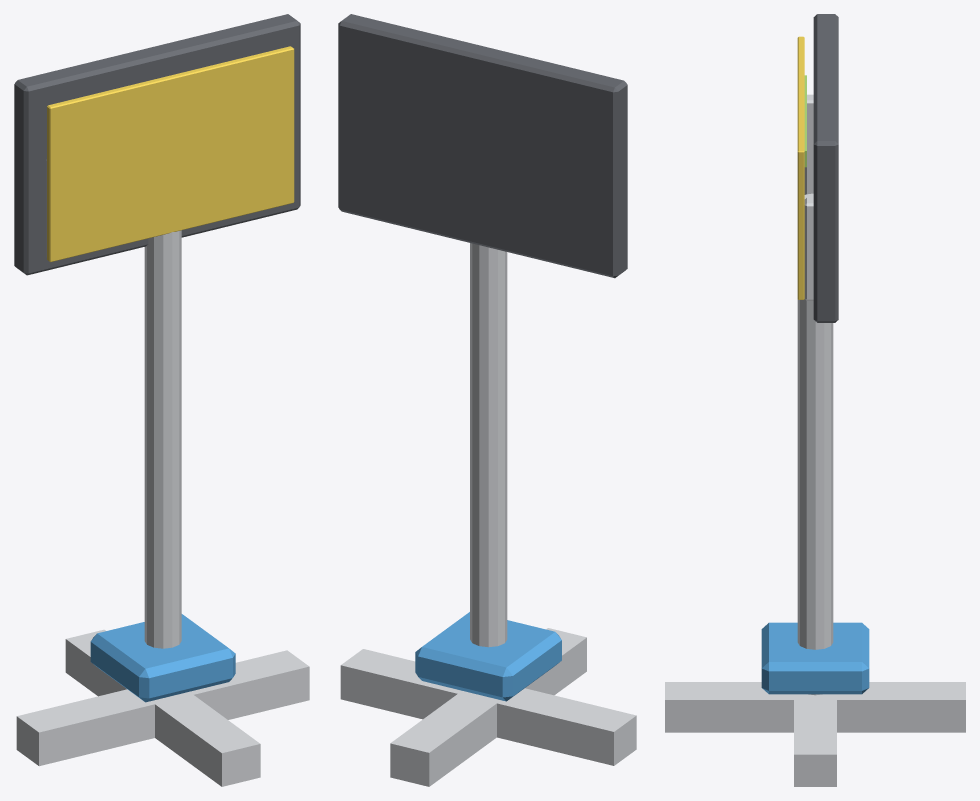
Rendered from trampoline-park-and-soft-play-briefing-screen-on-stand-fdd1bec6__34637.glb.
The picture shows the model from 3 angles, left to right: view 1: azimuth 30°, elevation 25°; view 2: azimuth 150°, elevation 25°; view 3: azimuth 270°, elevation 25°; orthographic projection. The views are drawn at different scales.
Visible parts, largest first — view 1: briefing-screen-on-stand, screen/amber, screen; view 2: screen, briefing-screen-on-stand; view 3: briefing-screen-on-stand, screen, screen/amber.
Boxes of the visible parts, x1=… form: briefing-screen-on-stand: x1=16, y1=160, x2=309, y2=786; screen/amber: x1=47, y1=46, x2=294, y2=262; screen: x1=14, y1=14, x2=300, y2=275; screen: x1=338, y1=14, x2=627, y2=278; briefing-screen-on-stand: x1=340, y1=243, x2=636, y2=786; briefing-screen-on-stand: x1=665, y1=94, x2=965, y2=786; screen: x1=813, y1=14, x2=838, y2=322; screen/amber: x1=797, y1=36, x2=804, y2=299.
Size of the model in its own units: 0.86 by 1.99 by 0.8399.
